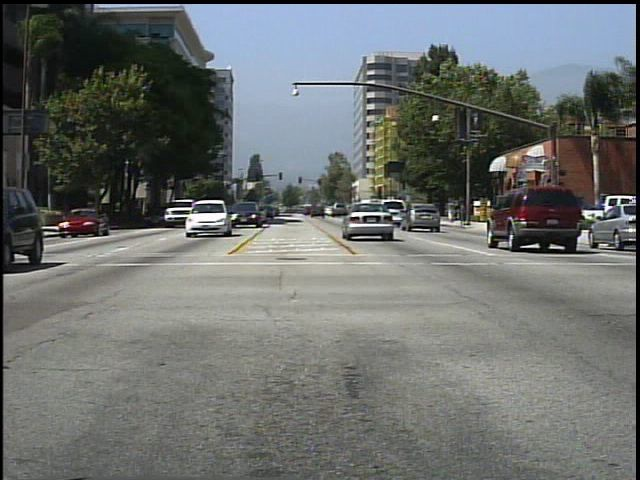person: (446, 196, 459, 225), (495, 196, 496, 228)
